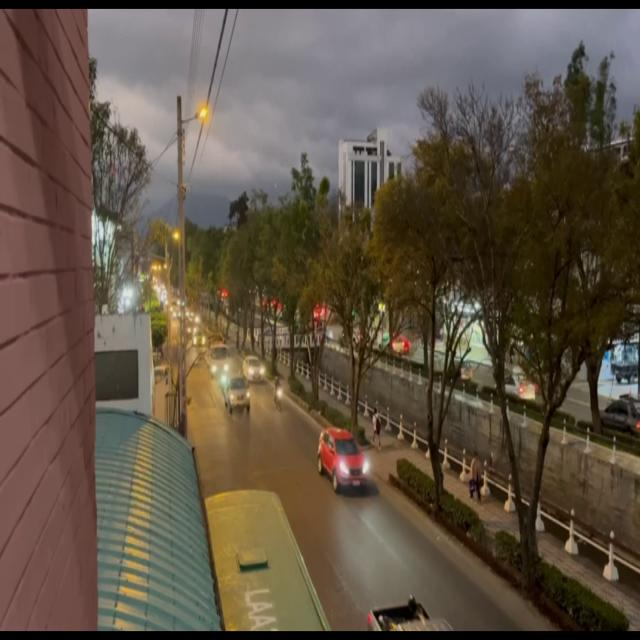MOTORCYCLE: (274, 384, 284, 412)
SUV: (323, 433, 368, 494)
